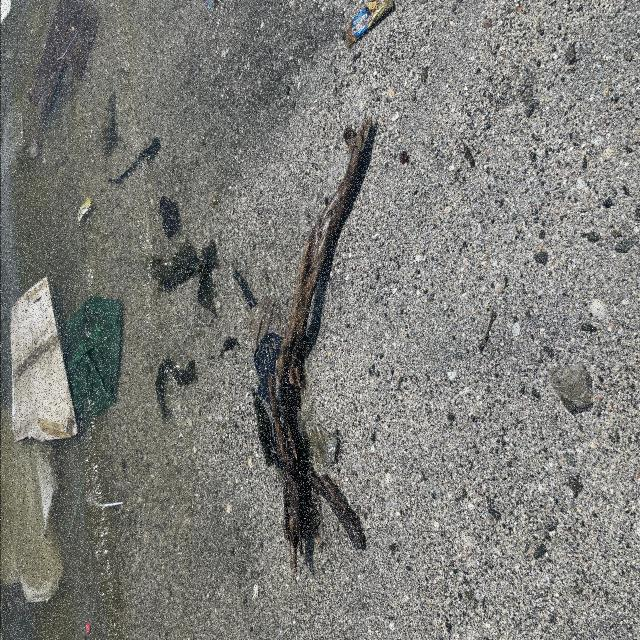plastic_waste: (346, 1, 396, 47)
